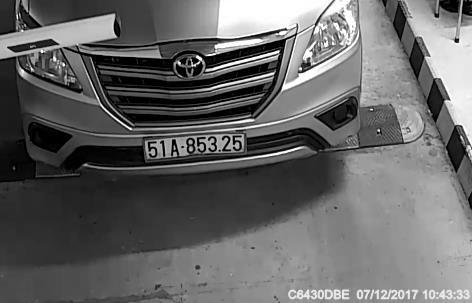License-plate: (133, 118, 254, 171)
